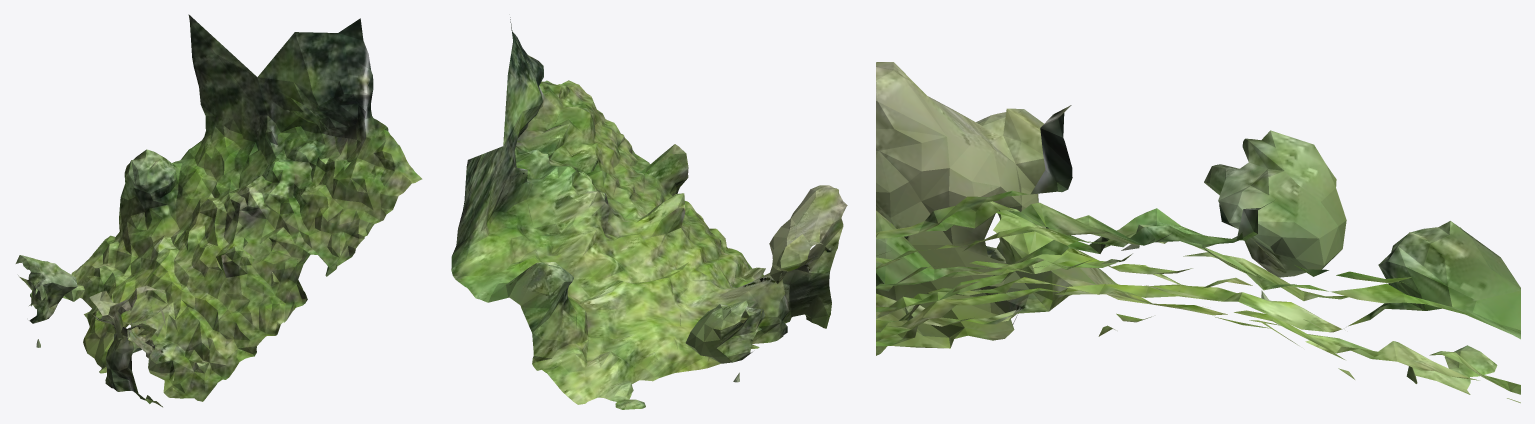
3 renders of one model, left to right at view 1: azimuth 30°, elevation 25°; view 2: azimuth 150°, elevation 25°; view 3: azimuth 270°, elevation 25°, orthographic. The views are drawn at different scales.
Bounding box in the file's own units: 26.11 × 24.51 × 26.11.
Materials: 4 (4 with a texture image).
